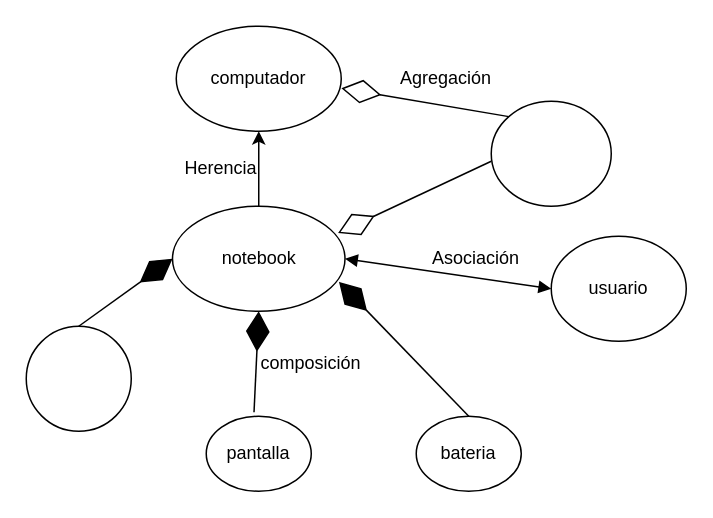
Some shapes in this 713 by 518 pixel diagram are drawn without their labels. Each missing label, with the centre of its shape:
"monitor" goes at point 550,153.
"trackpad" goes at point 78,378.
